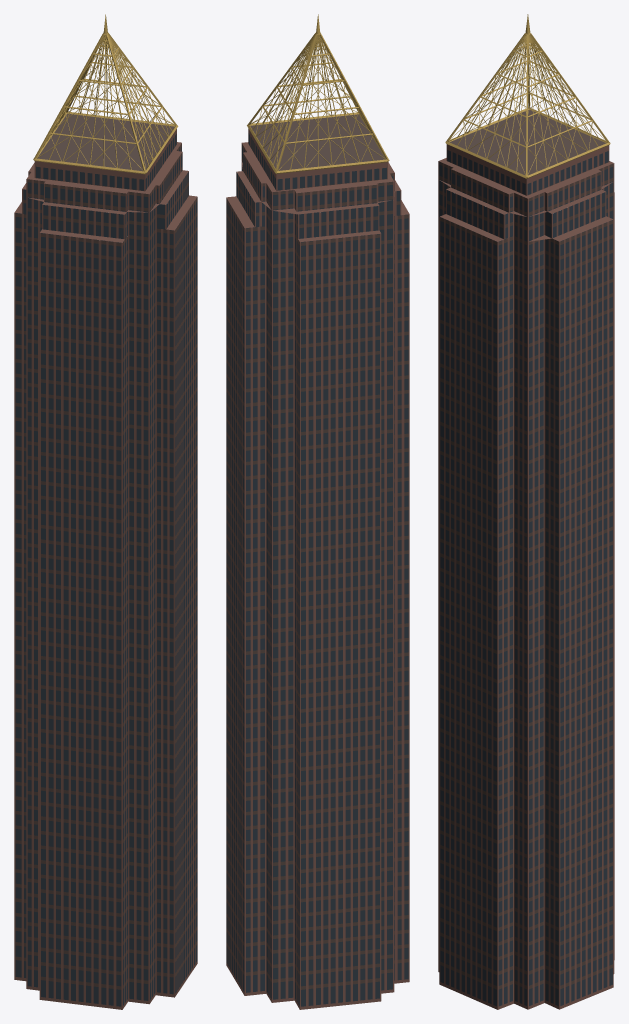
Rendered from bank-of-america-plaza-atlanta-near.glb.
3 views of the same model, side by side, from view 1: azimuth 30°, elevation 25°; view 2: azimuth 150°, elevation 25°; view 3: azimuth 270°, elevation 25° (orthographic).
Visible parts, largest first — view 1: bank-of-america-plaza-atlanta-0-granite, bank-of-america-plaza-atlanta-0-glass, bank-of-america-plaza-atlanta-0-spandrel, bank-of-america-plaza-atlanta-0-glow, bank-of-america-plaza-atlanta-0-light, bank-of-america-plaza-atlanta-0-roof; view 2: bank-of-america-plaza-atlanta-0-granite, bank-of-america-plaza-atlanta-0-glass, bank-of-america-plaza-atlanta-0-spandrel, bank-of-america-plaza-atlanta-0-glow, bank-of-america-plaza-atlanta-0-light, bank-of-america-plaza-atlanta-0-roof; view 3: bank-of-america-plaza-atlanta-0-granite, bank-of-america-plaza-atlanta-0-glass, bank-of-america-plaza-atlanta-0-spandrel, bank-of-america-plaza-atlanta-0-glow, bank-of-america-plaza-atlanta-0-light, bank-of-america-plaza-atlanta-0-roof.
Boxes of the visible parts, bbox=[...] form: bank-of-america-plaza-atlanta-0-granite: bbox=[14, 129, 197, 1009]; bank-of-america-plaza-atlanta-0-glass: bbox=[15, 134, 197, 1006]; bank-of-america-plaza-atlanta-0-spandrel: bbox=[15, 144, 197, 989]; bank-of-america-plaza-atlanta-0-glow: bbox=[15, 140, 197, 985]; bank-of-america-plaza-atlanta-0-light: bbox=[33, 14, 178, 174]; bank-of-america-plaza-atlanta-0-roof: bbox=[37, 113, 174, 171]; bank-of-america-plaza-atlanta-0-granite: bbox=[226, 128, 409, 1009]; bank-of-america-plaza-atlanta-0-glass: bbox=[226, 133, 408, 1006]; bank-of-america-plaza-atlanta-0-spandrel: bbox=[226, 144, 408, 989]; bank-of-america-plaza-atlanta-0-glow: bbox=[226, 137, 408, 985]; bank-of-america-plaza-atlanta-0-light: bbox=[247, 14, 389, 173]; bank-of-america-plaza-atlanta-0-roof: bbox=[250, 114, 385, 170]; bank-of-america-plaza-atlanta-0-granite: bbox=[438, 144, 614, 1009]; bank-of-america-plaza-atlanta-0-glass: bbox=[439, 150, 613, 1006]; bank-of-america-plaza-atlanta-0-spandrel: bbox=[439, 161, 613, 989]; bank-of-america-plaza-atlanta-0-glow: bbox=[439, 151, 613, 985]; bank-of-america-plaza-atlanta-0-light: bbox=[445, 14, 610, 178]; bank-of-america-plaza-atlanta-0-roof: bbox=[449, 110, 606, 175].
Bounding box in the file's own units: 53.07 × 312 × 51.98.
